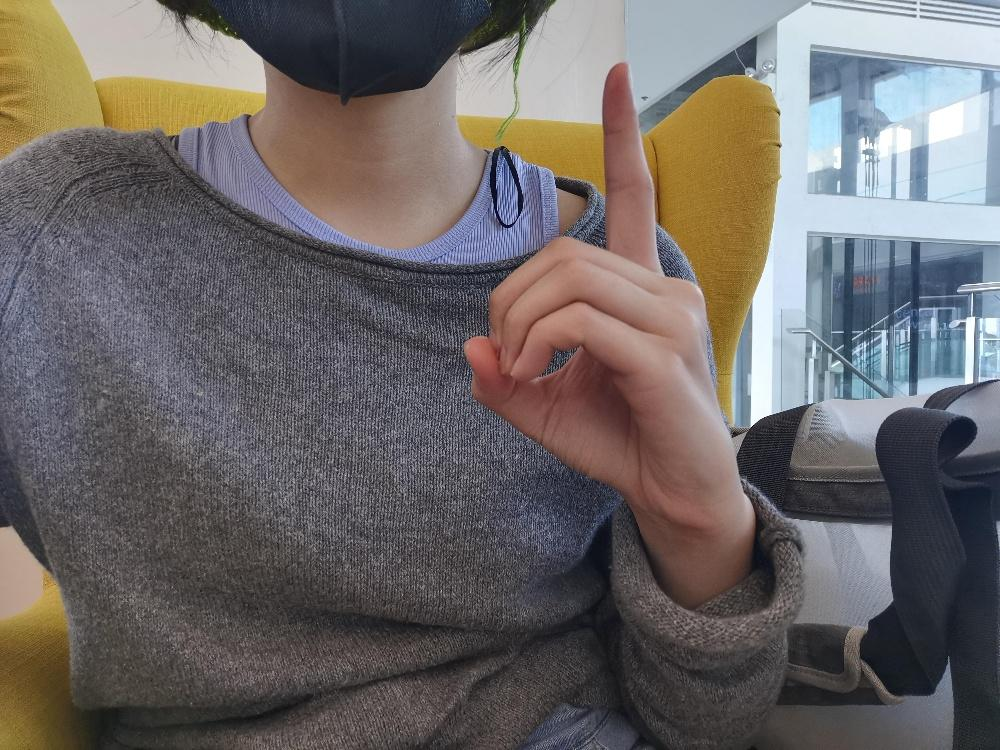d: (459, 58, 746, 533)
